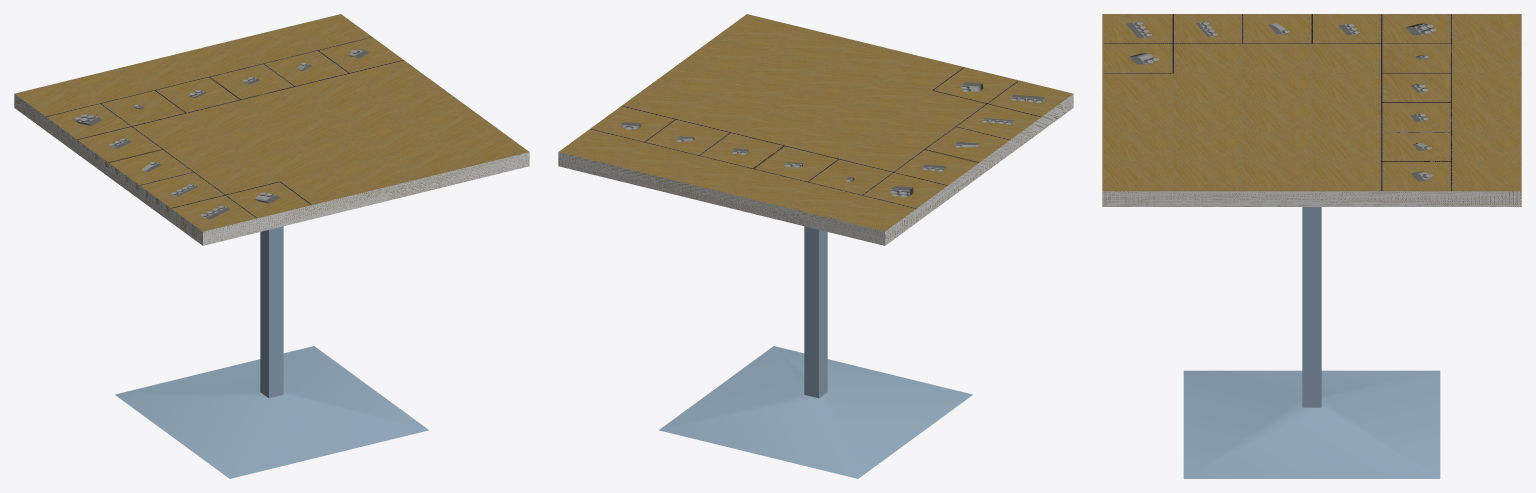
File: work_table.dae
3 renders of one model, left to right at view 1: azimuth 30°, elevation 25°; view 2: azimuth 150°, elevation 25°; view 3: azimuth 270°, elevation 25°, orthographic. The views are drawn at different scales.
Parts seen in each view (by area): view 1: Top_Square.004, SketchUp, Top_Square.003; view 2: Top_Square.004, SketchUp, Top_Square.003; view 3: Top_Square.004, SketchUp, Top_Square.003.
Part boxes in pixels (x1=…): Top_Square.004: x1=15, y1=14, x2=528, y2=231; SketchUp: x1=115, y1=226, x2=428, y2=478; Top_Square.003: x1=14, y1=94, x2=529, y2=245; Top_Square.004: x1=559, y1=14, x2=1072, y2=231; SketchUp: x1=659, y1=226, x2=972, y2=478; Top_Square.003: x1=558, y1=94, x2=1073, y2=245; Top_Square.004: x1=1102, y1=14, x2=1521, y2=191; SketchUp: x1=1183, y1=207, x2=1440, y2=478; Top_Square.003: x1=1102, y1=191, x2=1521, y2=206.
Size of the model in its own units: 0.9144 by 0.9144 by 0.7747.
